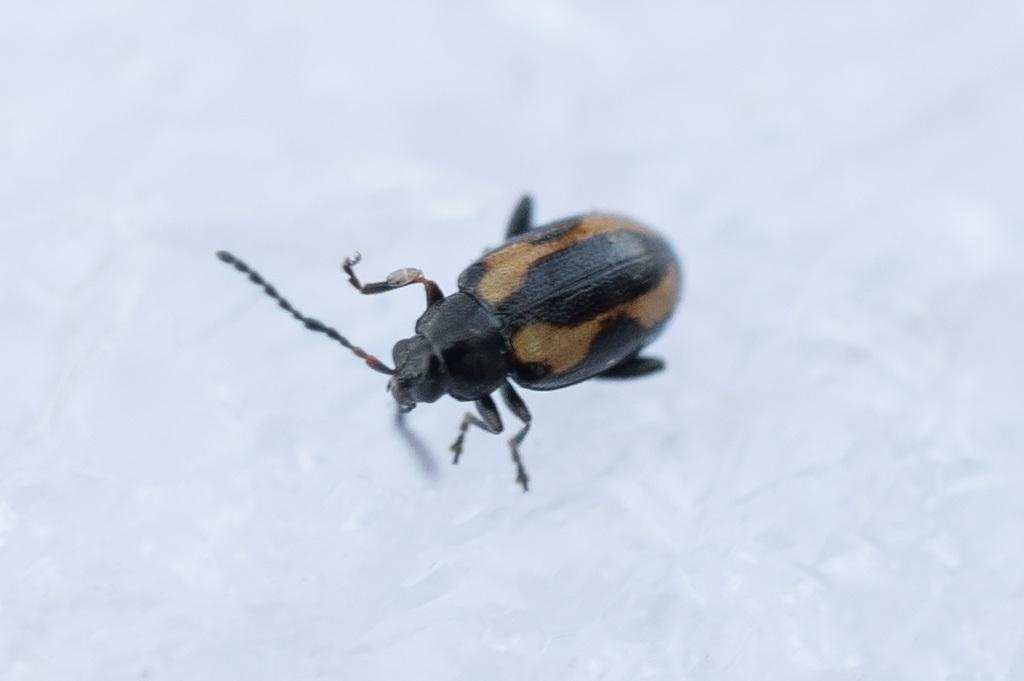flea_beetle: (179, 147, 725, 545)
